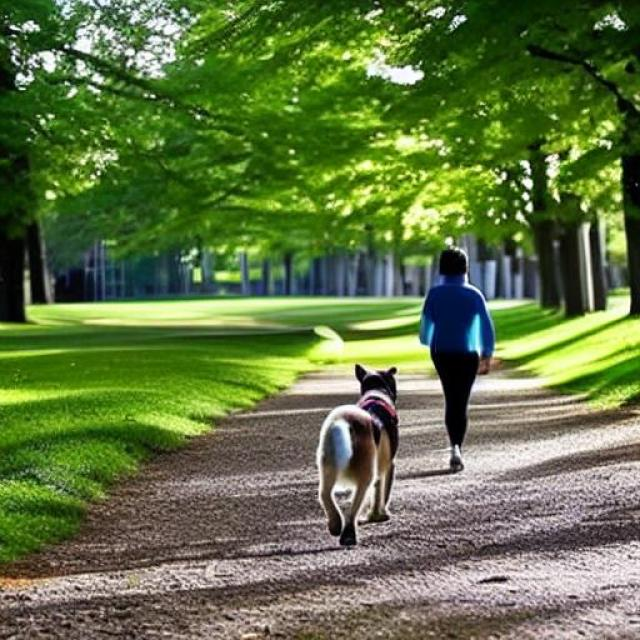Unleashed_Dog: (317, 350, 477, 548)
